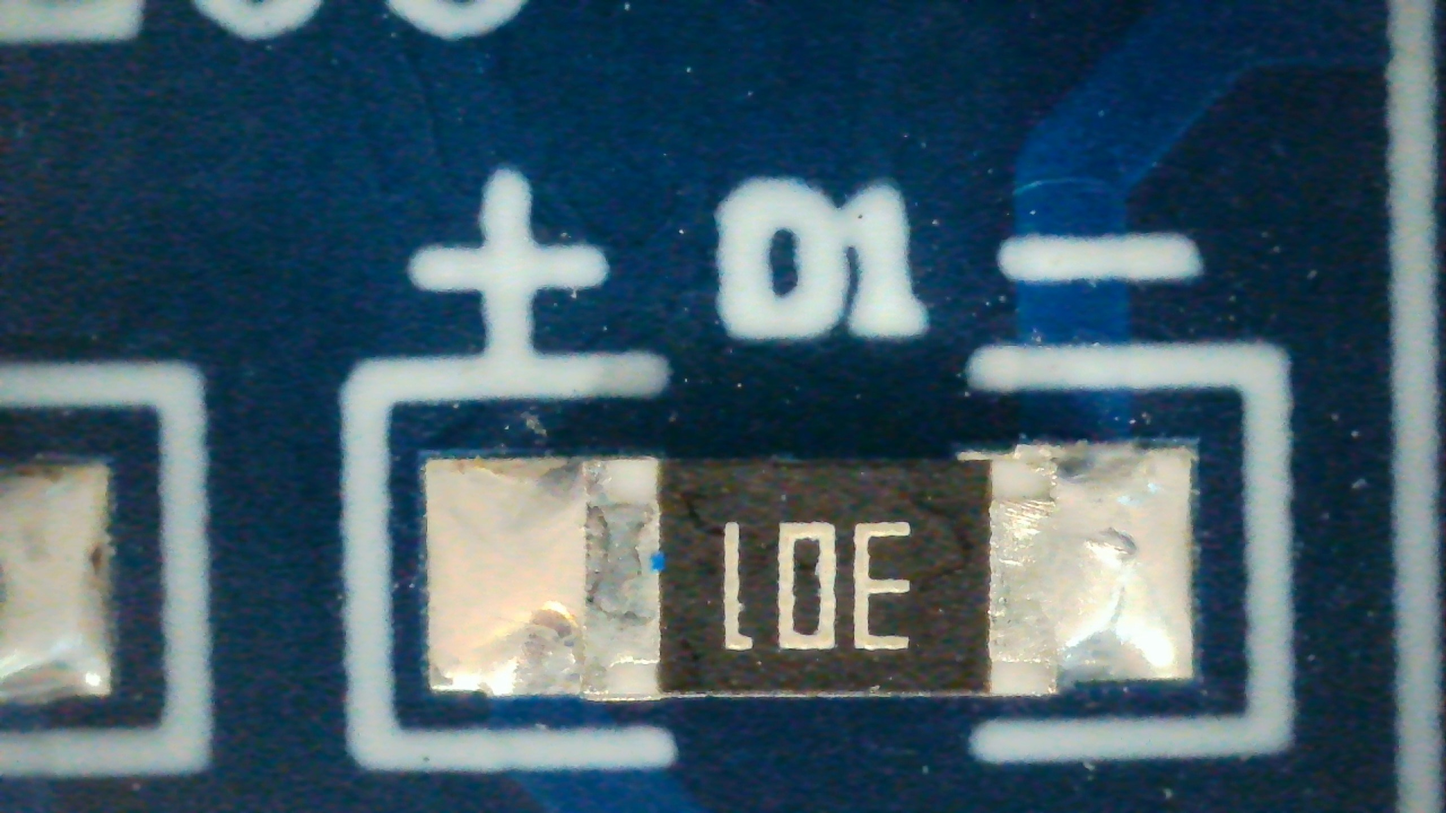OK: (425, 446, 1195, 698)
